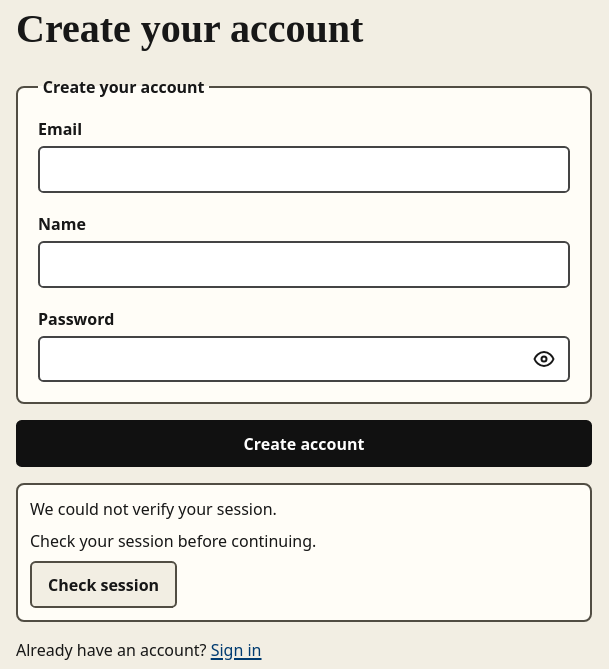
Scenario: signup-form: › renders each password validation message in its associated list item
Type "ada@example.test" into the field labelled "Email".
click(304, 169); type("ada@example.test")  # box [38,146,570,193]
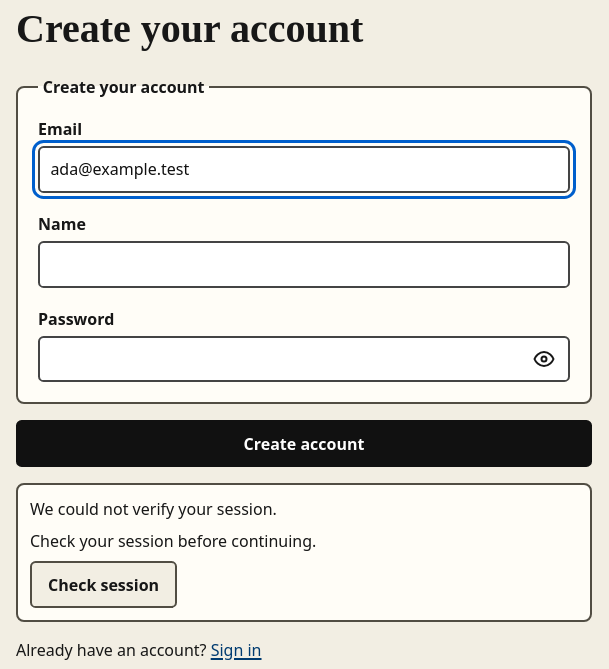
Type "Ada Example" into the field labelled "Name".
click(304, 264); type("Ada Example")  # box [38,241,570,288]
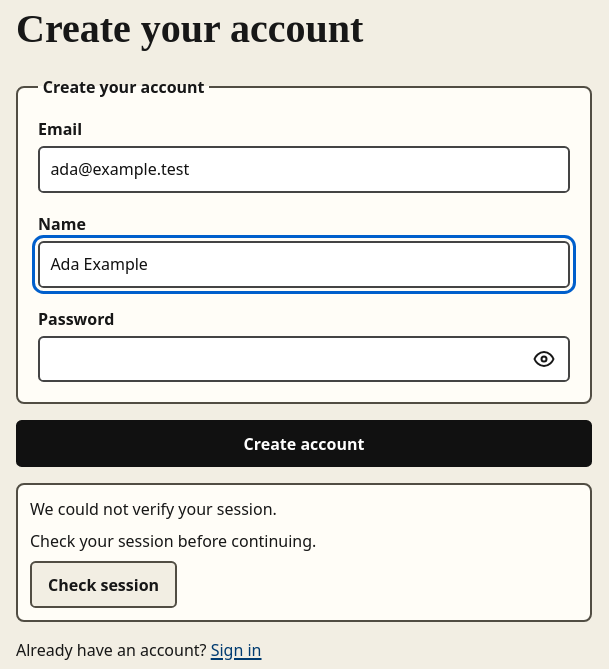
Type "short" into the password field labelled "Password".
click(304, 359); type("short")  # box [38,336,570,382]
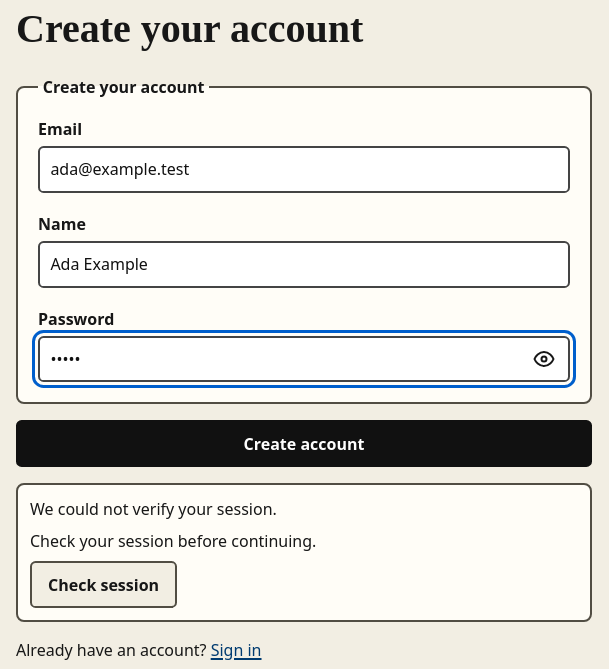
Click the button "Create account".
click(304, 444)  # box [16,420,592,467]
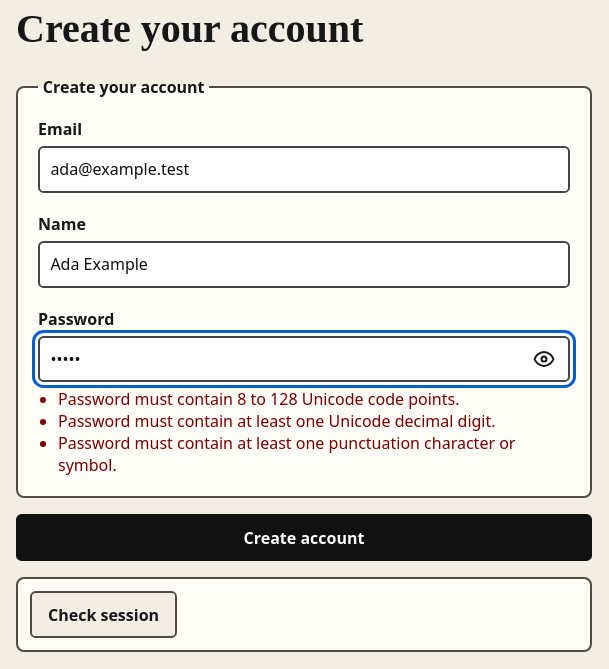
Result: the number of lists is 1 at [38,388,570,476]
Result: the list item "Password must contain 8 to 128 Unicode code points." is shown at [58,388,460,410]
Result: the list item "Password must contain at least one Unicode decimal digit." is shown at [58,410,570,432]
